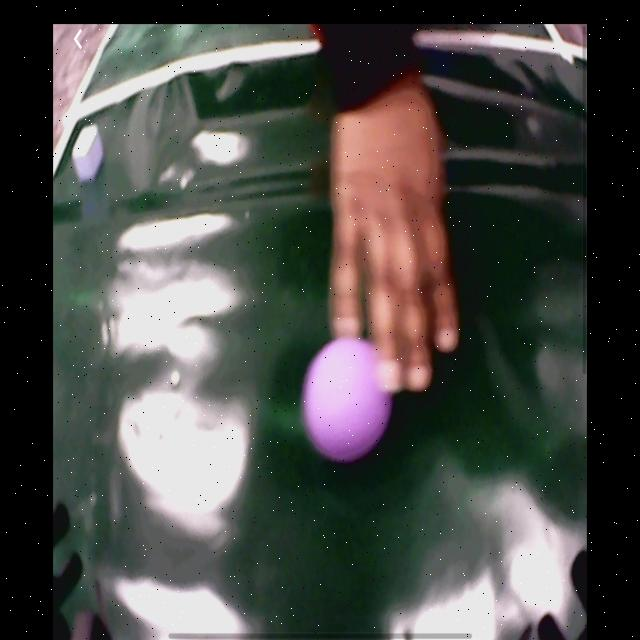ball: (300, 340, 393, 464)
